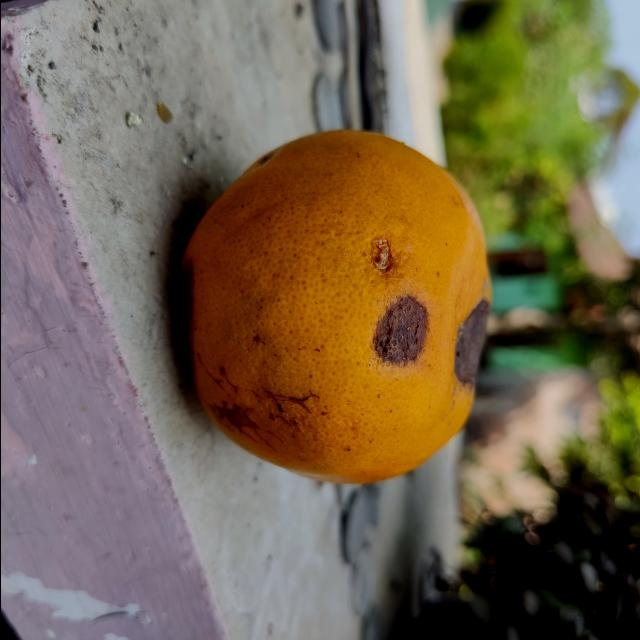agrume: (179, 130, 493, 486)
